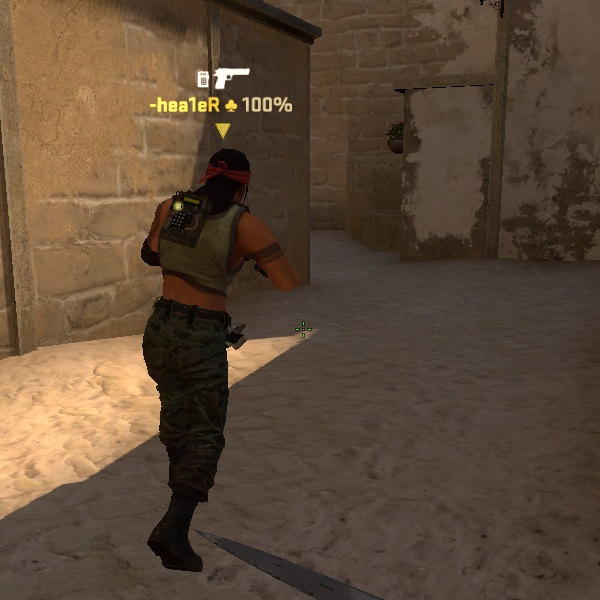t_body: (90, 140, 305, 570)
t_head: (187, 145, 260, 216)
